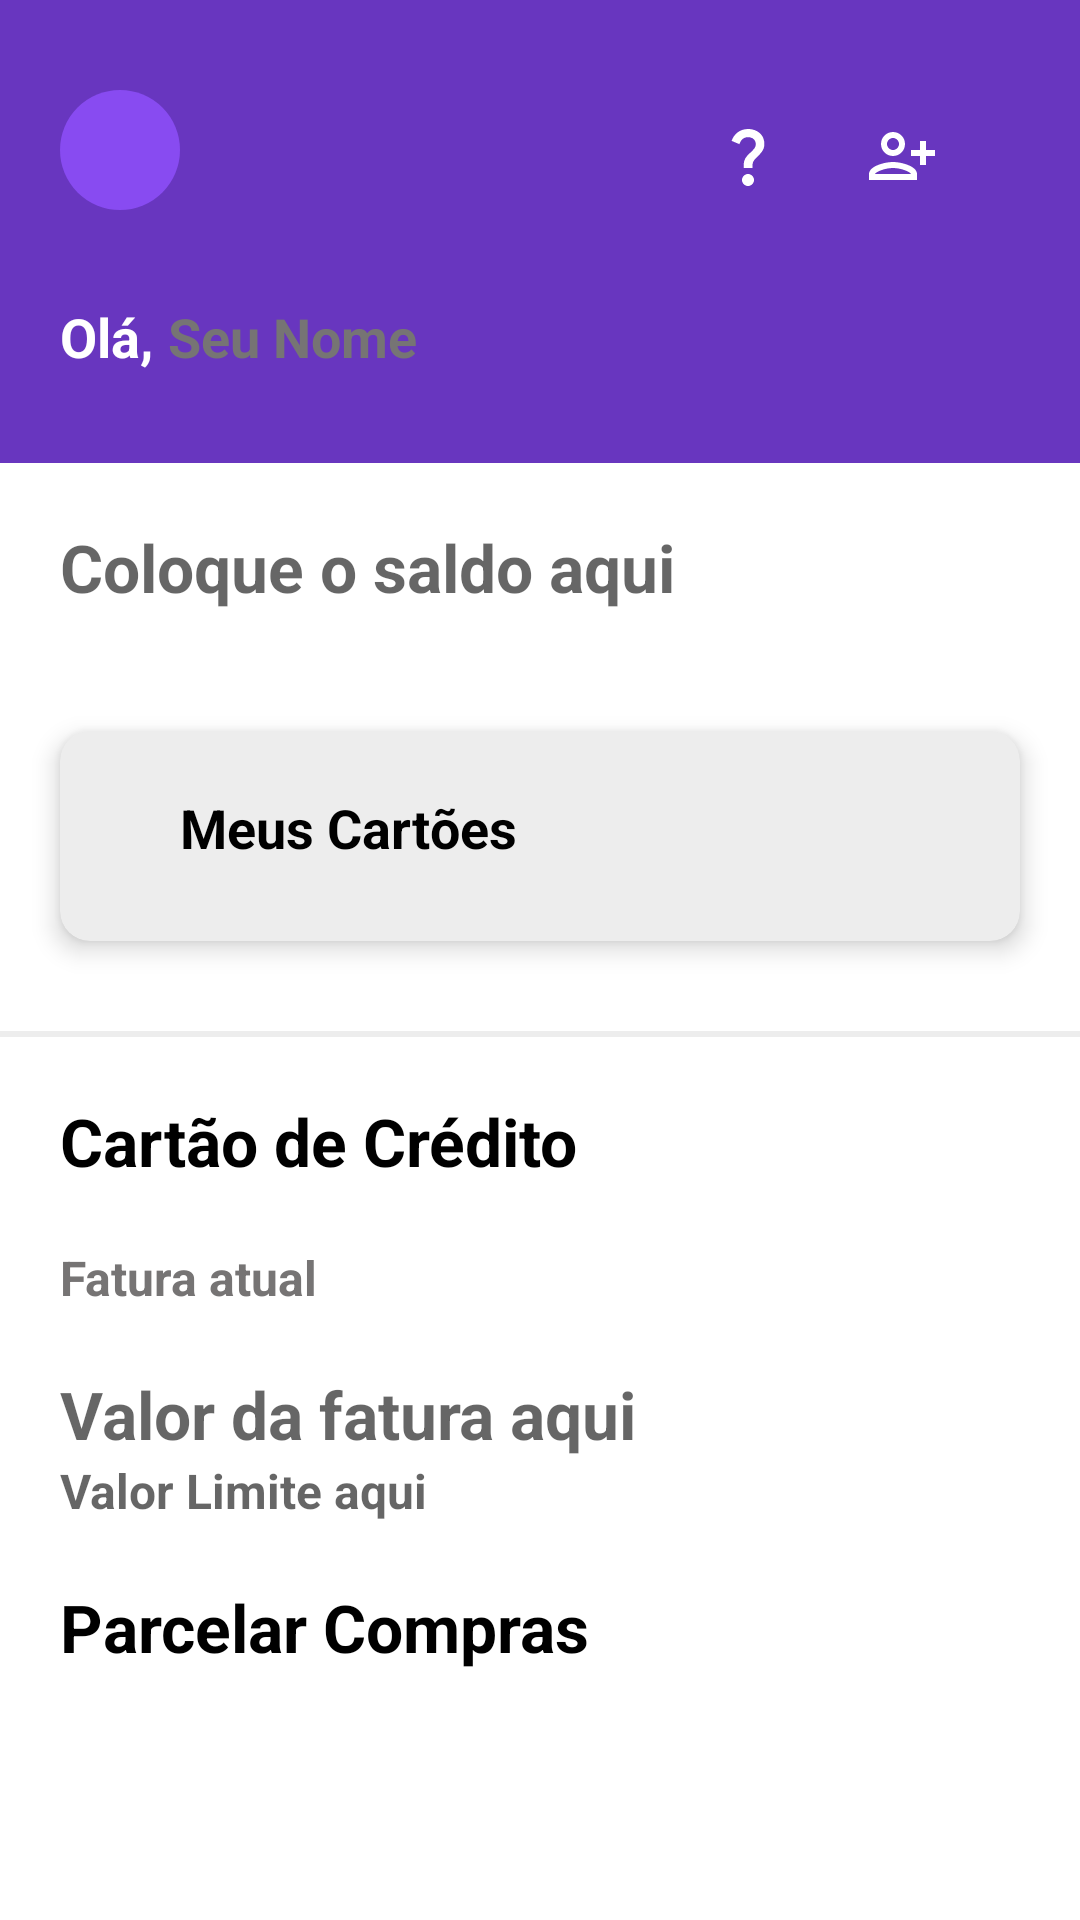

Where to tap for icons on this 1080w x 1920h app screen, as point (x, y):
person add: point (902, 156)
question: point (748, 157)
